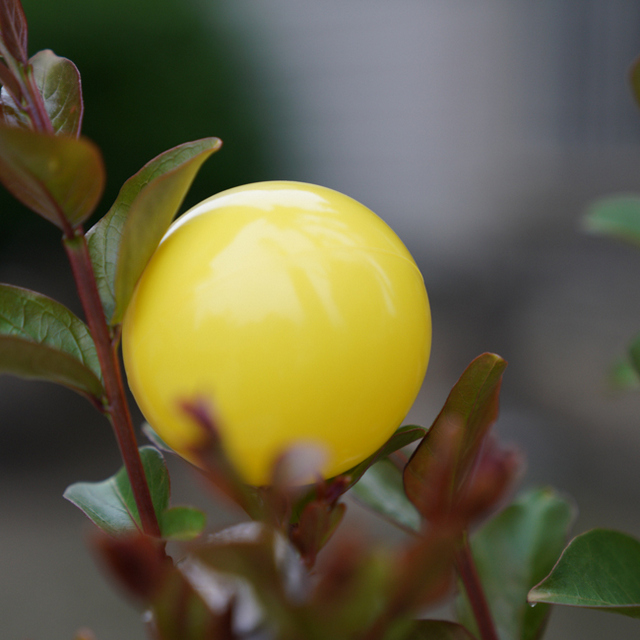Ball: (113, 181, 430, 490)
